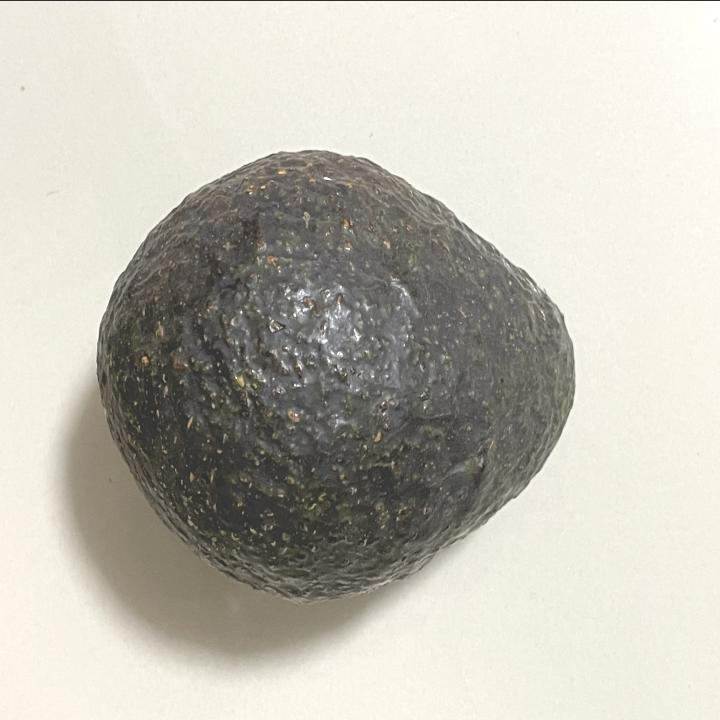Level1: (86, 130, 590, 610)
